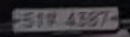51부4387: (20, 9, 111, 32)
